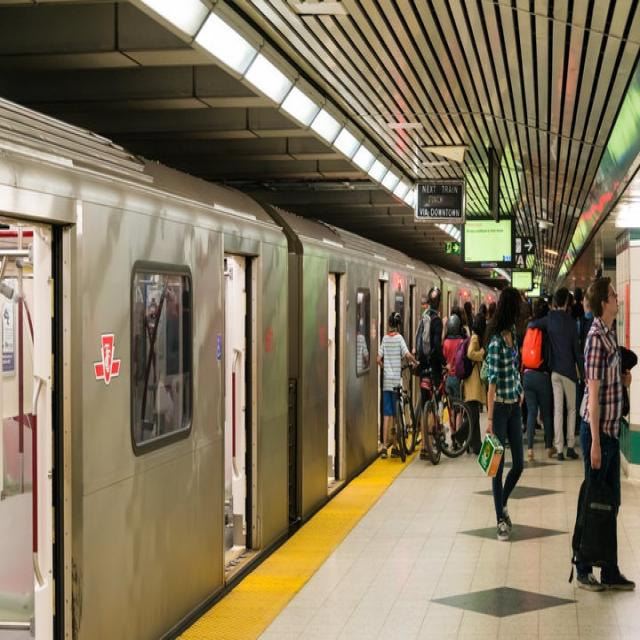body: (352, 284, 620, 435), (566, 275, 639, 592), (478, 283, 526, 540), (524, 283, 586, 461), (414, 284, 454, 462), (376, 309, 420, 460), (521, 298, 558, 464), (461, 310, 489, 457), (441, 312, 466, 450)
